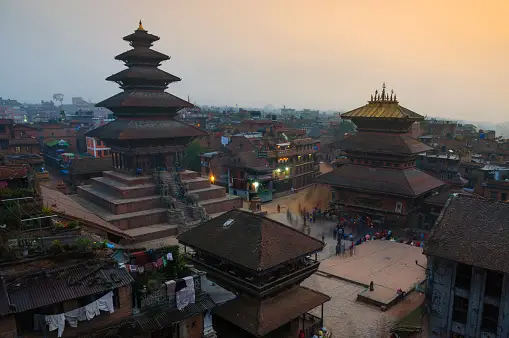nyathapola: (80, 18, 231, 212)
